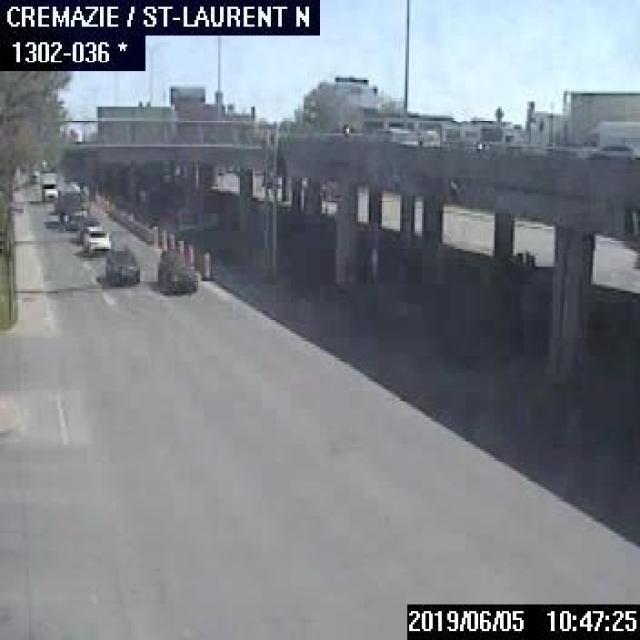construction: (200, 250, 212, 279), (150, 224, 158, 247), (186, 242, 193, 265), (160, 229, 166, 249), (176, 236, 182, 252), (168, 232, 173, 246)
vehicle: (153, 244, 198, 296), (58, 186, 90, 226), (105, 248, 140, 284), (80, 222, 114, 254), (590, 140, 638, 162), (40, 170, 56, 198), (28, 168, 38, 182)
